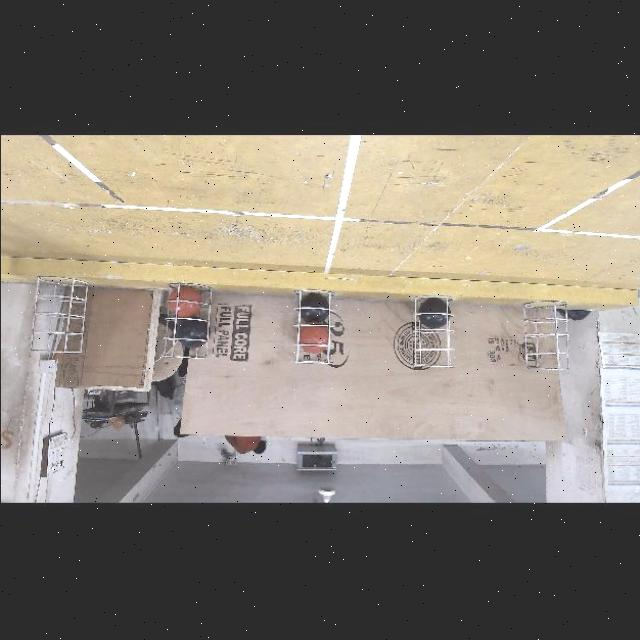P: (419, 297, 453, 327), (174, 318, 210, 346), (298, 292, 328, 321)
R: (166, 284, 202, 316), (298, 322, 328, 352)
S: (157, 282, 220, 364), (24, 276, 88, 356), (519, 300, 573, 374), (294, 290, 336, 366), (405, 300, 453, 364)
